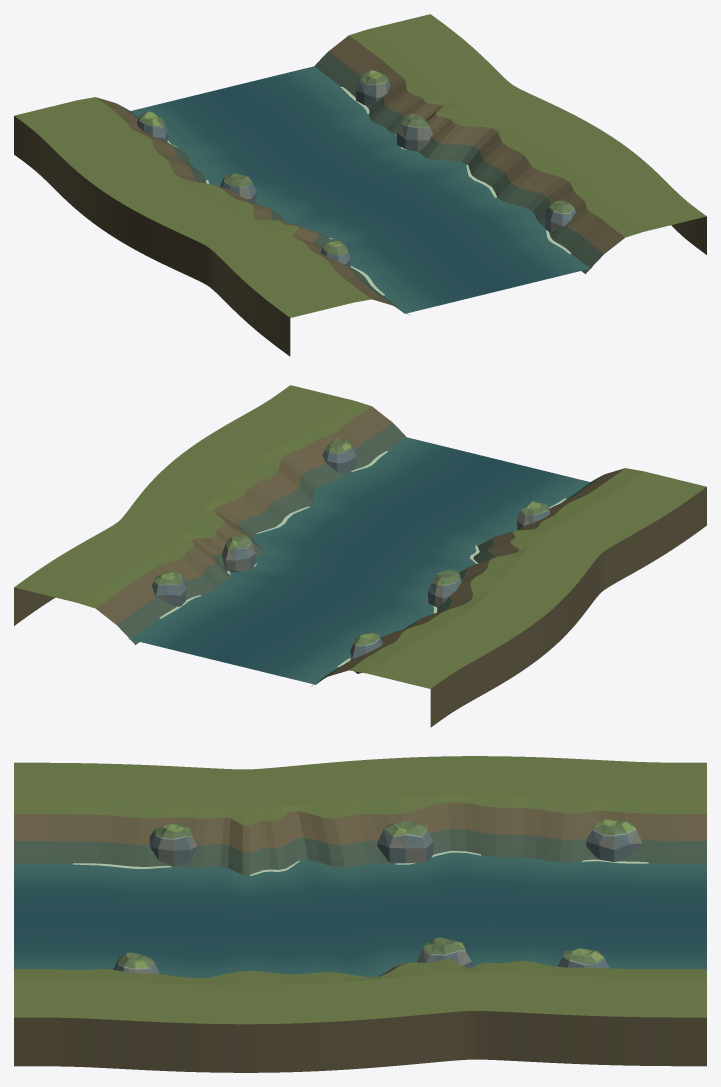
The model's file is stream_straight.glb.
3 renders of one model, top to bottom at view 1: azimuth 30°, elevation 25°; view 2: azimuth 150°, elevation 25°; view 3: azimuth 270°, elevation 25°, orthographic. The views are drawn at different scales.
Parts seen in each view (by area): view 1: Keep_Mesh; view 2: Keep_Mesh; view 3: Keep_Mesh.
Boxes of the visible parts, <box> form: Keep_Mesh: <box>14,14,706,356</box>; Keep_Mesh: <box>14,385,706,727</box>; Keep_Mesh: <box>14,756,706,1072</box>.
Bounding box in the file's own units: 7.32 × 0.6682 × 8.
